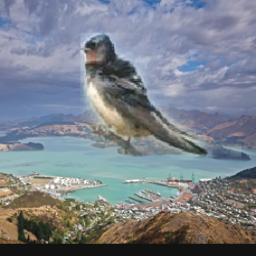Swallow: (80, 34, 241, 158)
